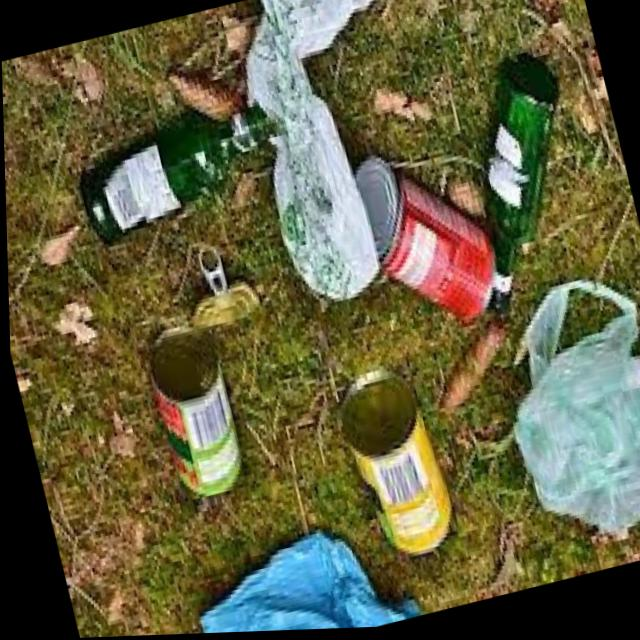clothes: (346, 117, 517, 360), (321, 357, 474, 576), (136, 312, 252, 512), (172, 245, 276, 377)
foam box: (432, 49, 603, 318)
leaf: (37, 103, 299, 251), (154, 521, 408, 636)
metal: (213, 0, 445, 345), (467, 277, 640, 558)
